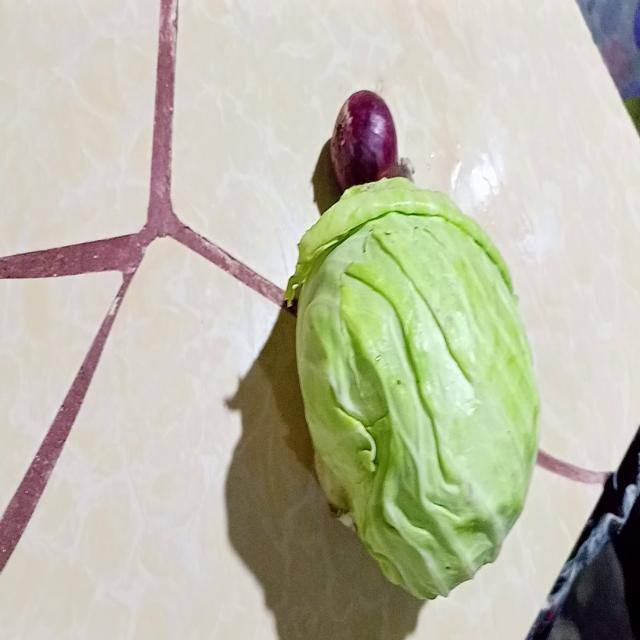cabbage: (285, 179, 541, 603)
onion: (327, 91, 413, 190)
